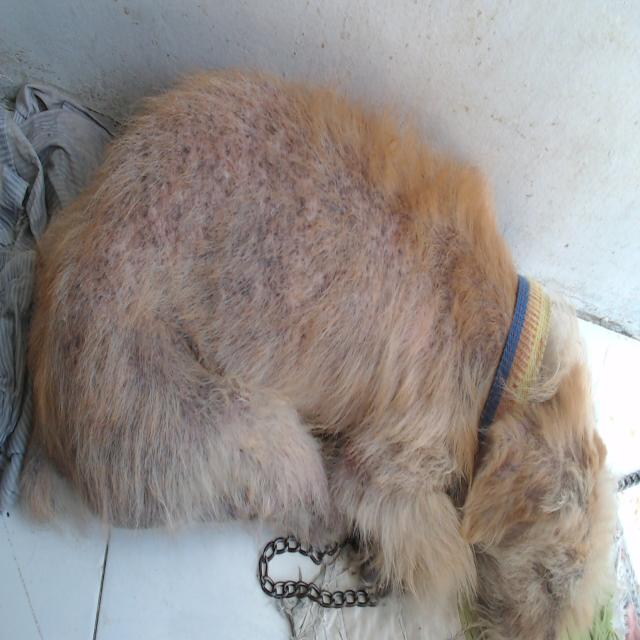demodicosis: (113, 109, 374, 323)
